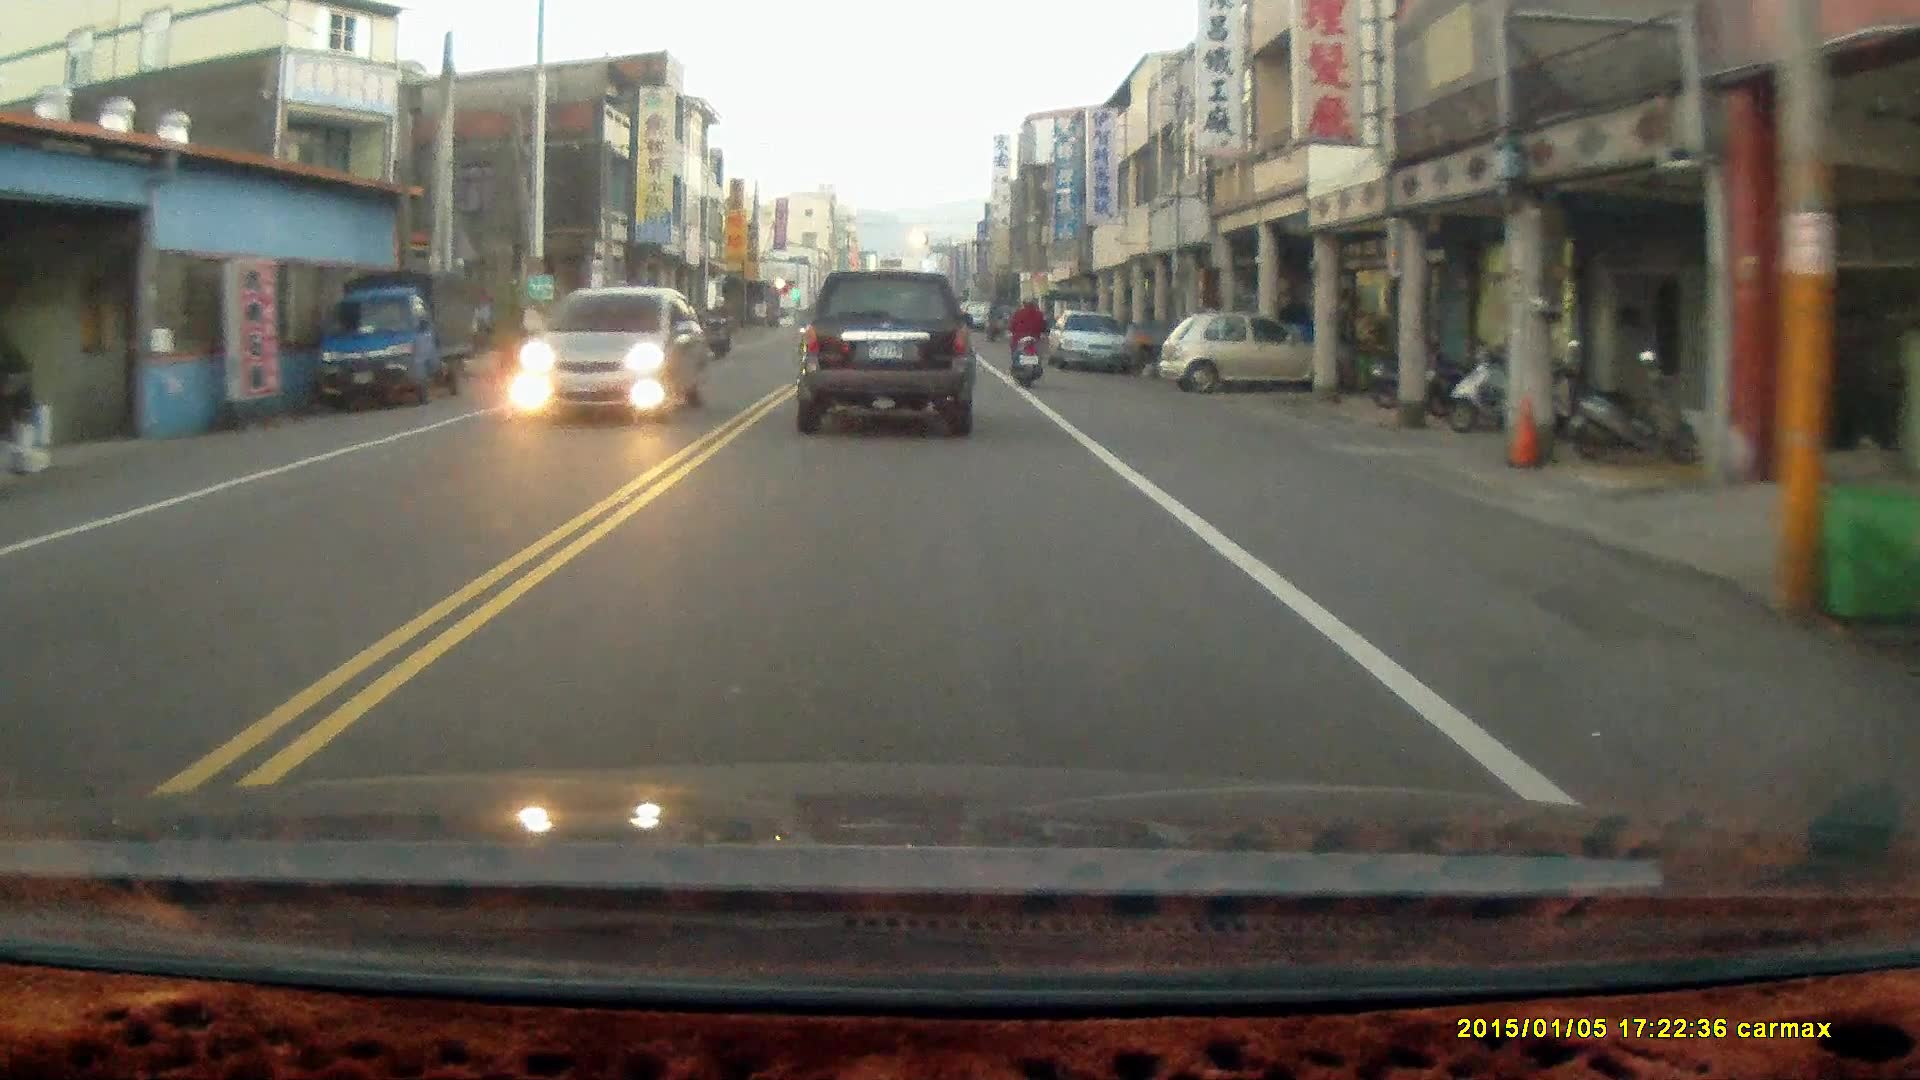rider: (1007, 291, 1045, 387), (703, 296, 736, 359)
vehicle: (793, 265, 977, 439), (521, 284, 710, 423), (314, 266, 481, 413), (1163, 308, 1336, 395), (1050, 313, 1137, 372)
